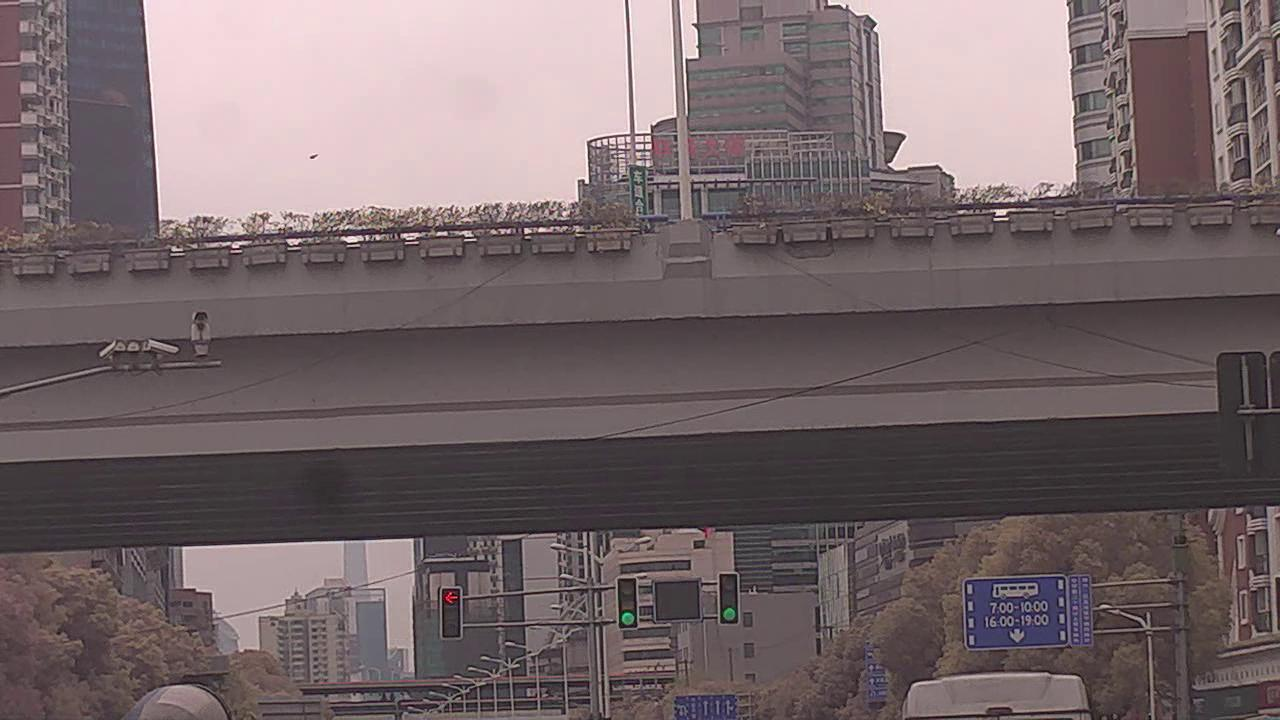traffic_light: (440, 586, 463, 641), (718, 573, 742, 625), (619, 577, 639, 625)
